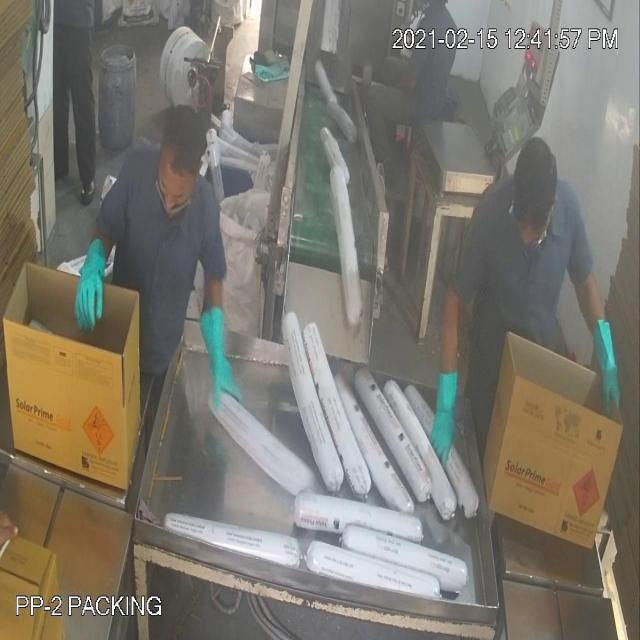Gloves: (42, 124, 606, 414)
